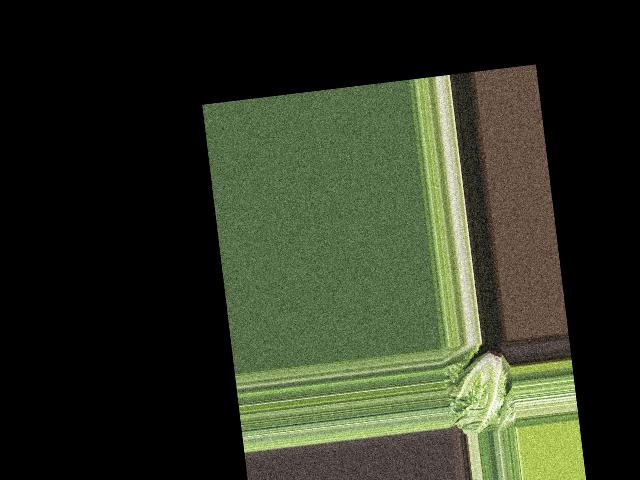lettuce: (445, 344, 518, 435)
